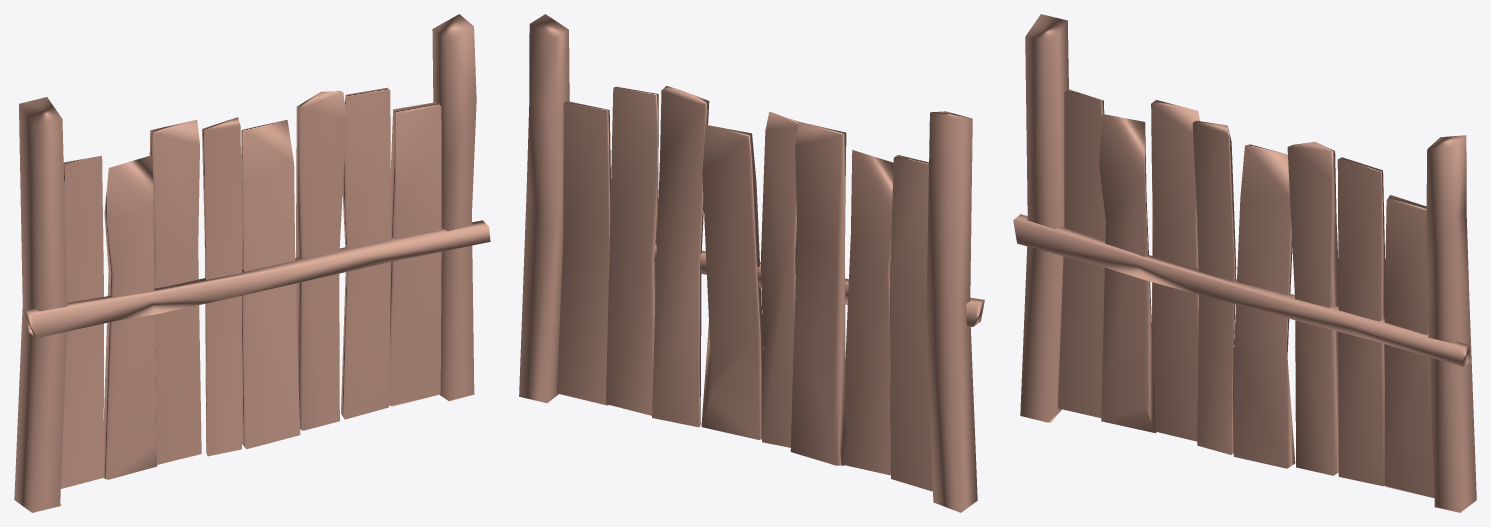
File: prop_fence_02_decimated-20.FBX
The picture shows the model from 3 angles, left to right: view 1: azimuth 30°, elevation 25°; view 2: azimuth 150°, elevation 25°; view 3: azimuth 330°, elevation 25°; orthographic projection.
Visible parts, largest first — view 1: prop_fence_03; view 2: prop_fence_03; view 3: prop_fence_03.
Part boxes in pixels (x1,y1,x2,y2): prop_fence_03: [14, 14, 490, 512]; prop_fence_03: [519, 14, 984, 512]; prop_fence_03: [1013, 14, 1476, 512].
Bounding box in the file's own units: 282 × 234 × 24.74.
